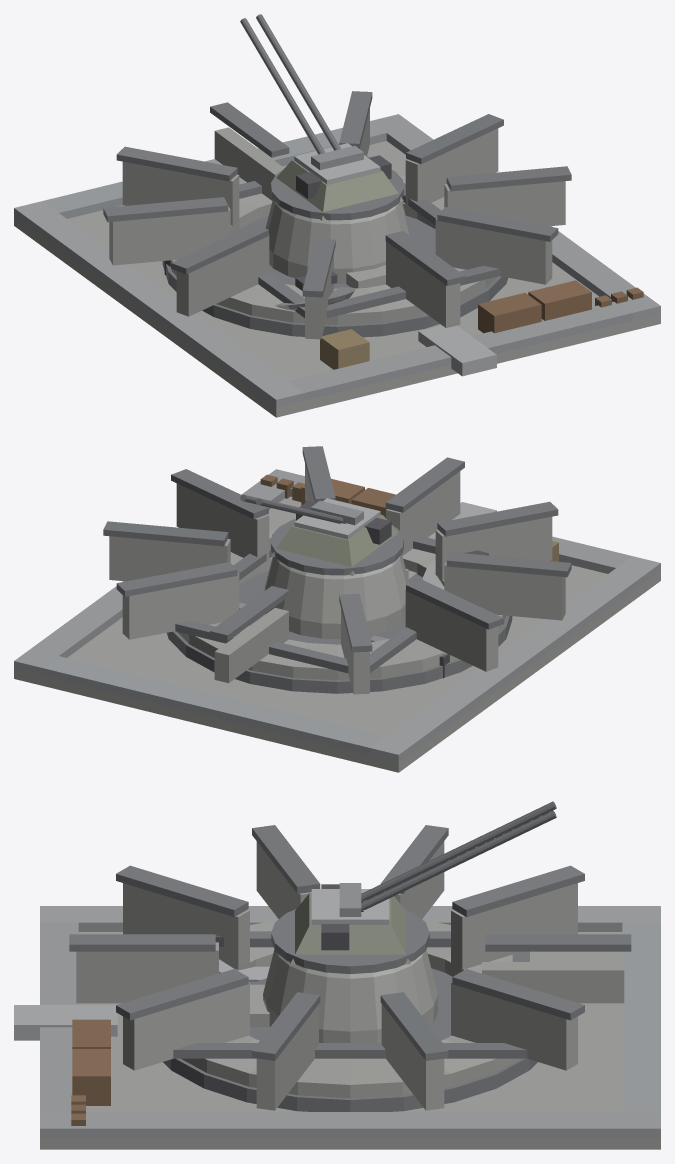
The model's file is western_aa.glb.
3 renders of one model, top to bottom at view 1: azimuth 30°, elevation 25°; view 2: azimuth 150°, elevation 25°; view 3: azimuth 270°, elevation 25°, orthographic. The views are drawn at different scales.
Parts seen in each view (by area): view 1: parapet, apron_rim, parapet_cap, apron, barbette, turret, platform, kerb, lockers, platform_cap, barrel, duct (+3 smaller); view 2: parapet, apron_rim, apron, parapet_cap, barbette, platform, kerb, turret, platform_cap, lockers, barrel; view 3: parapet, apron_rim, apron, parapet_cap, barbette, platform, turret, kerb, platform_cap, lockers, barrel, duct (+2 smaller).
Part boxes in pixels (<box>): parapet: <box>109,108,565,339</box>; apron_rim: <box>14,114,660,407</box>; parapet_cap: <box>103,91,571,297</box>; apron: <box>14,141,660,417</box>; barbette: <box>265,170,410,283</box>; turret: <box>276,143,403,220</box>; platform: <box>170,175,497,325</box>; kerb: <box>162,215,507,337</box>; lockers: <box>478,280,643,333</box>; platform_cap: <box>239,155,499,318</box>; barrel: <box>240,14,340,154</box>; duct: <box>418,325,496,376</box>; parapet: <box>109,464,565,694</box>; apron_rim: <box>14,469,660,762</box>; apron: <box>14,496,660,772</box>; parapet_cap: <box>103,446,571,652</box>; barbette: <box>264,519,409,638</box>; platform: <box>177,530,505,680</box>; kerb: <box>167,571,512,693</box>; turret: <box>271,498,398,575</box>; platform_cap: <box>175,536,435,673</box>; lockers: <box>260,474,395,517</box>; barrel: <box>240,494,346,523</box>; parapet: <box>76,841,624,1110</box>; apron_rim: <box>40,906,660,1137</box>; apron: <box>40,932,660,1149</box>; parapet_cap: <box>69,825,631,1060</box>; barbette: <box>263,909,437,1042</box>; platform: <box>181,920,530,1098</box>; turret: <box>290,883,410,964</box>; kerb: <box>163,968,537,1111</box>; platform_cap: <box>173,931,529,1058</box>; lockers: <box>71,1019,110,1125</box>; barrel: <box>361,801,556,911</box>; duct: <box>14,1005,117,1040</box>.
Size of the model in its own units: 12.57 by 5.93 by 15.
